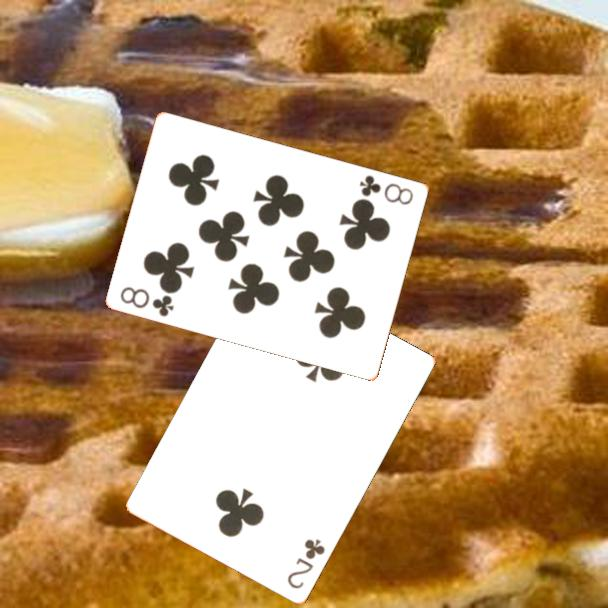c02: (284, 535, 328, 592)
c08: (356, 171, 416, 208), (117, 283, 177, 319)
